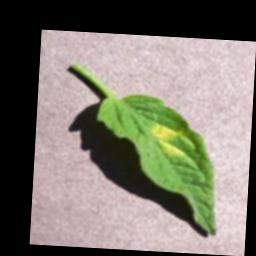Leaf_Mold: (146, 122, 189, 158)
